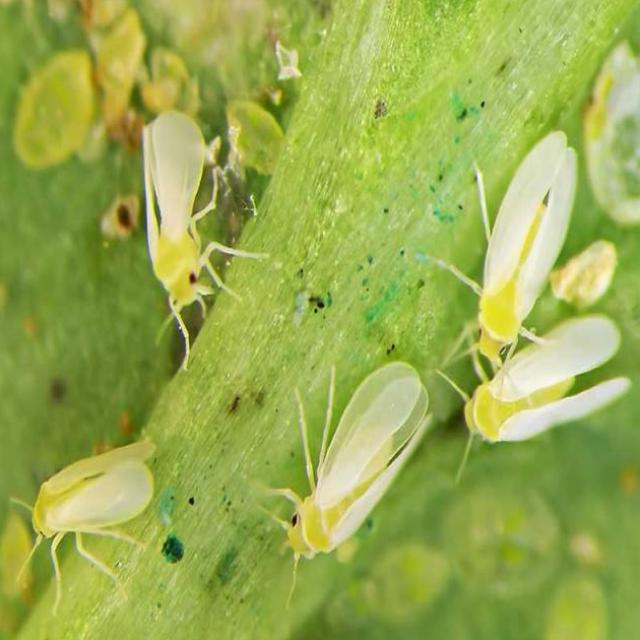Whitefly: (256, 358, 429, 604), (429, 306, 635, 502), (421, 128, 581, 368), (136, 110, 274, 380), (5, 433, 155, 624)
